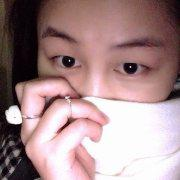WRONG: (28, 25, 164, 161)
